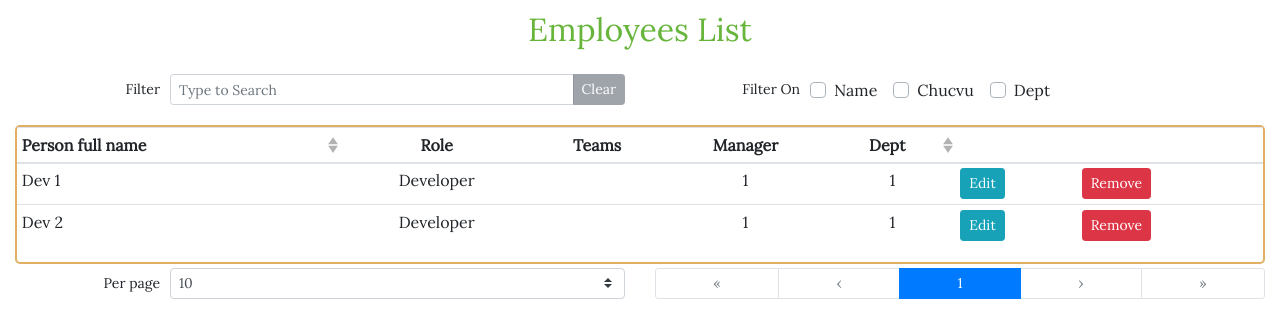
Test: Employee unit tests: › Test filter › No record matched
Type "Dev 3" into the search field with id "filter-input" at (372, 90), box [170,74,574,105]
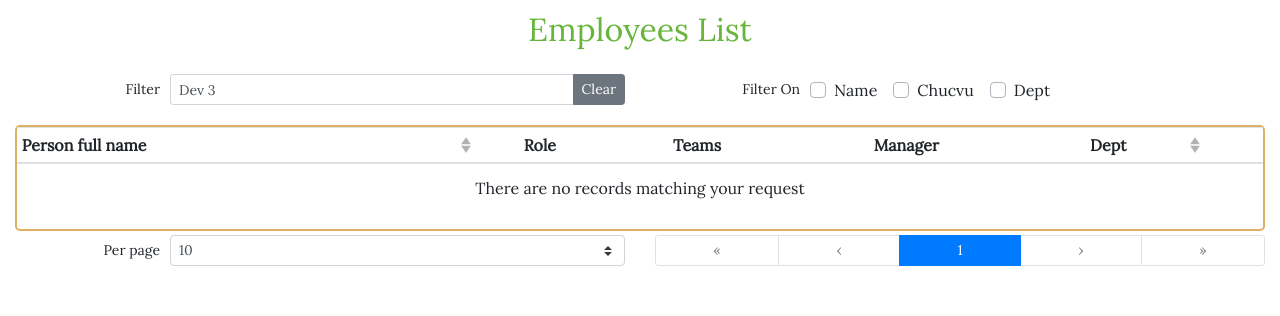
Expected: the table does not show "Dev 3"
Expected: the table shows "There are no records matching your request", [475,178,805,198]
